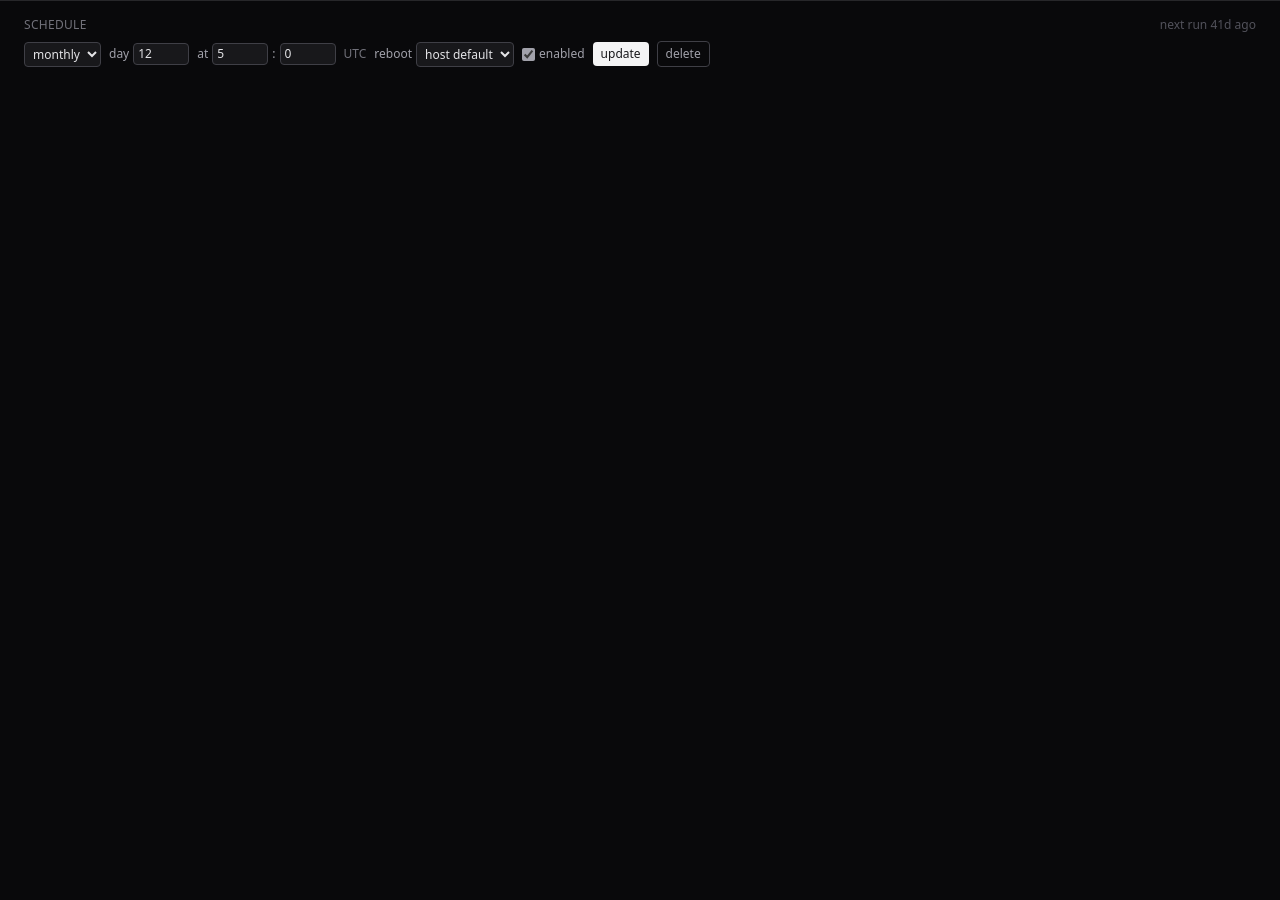
Test case: Schedule › populates the form from an existing schedule and deletes it after confirmation
Expected: the button "update" is shown, [593,42,649,66]
Expected: the text "next run 41d ago" is shown, [1160,17,1256,33]
Click the button "delete".
click(683, 54)  # box [657,41,710,67]
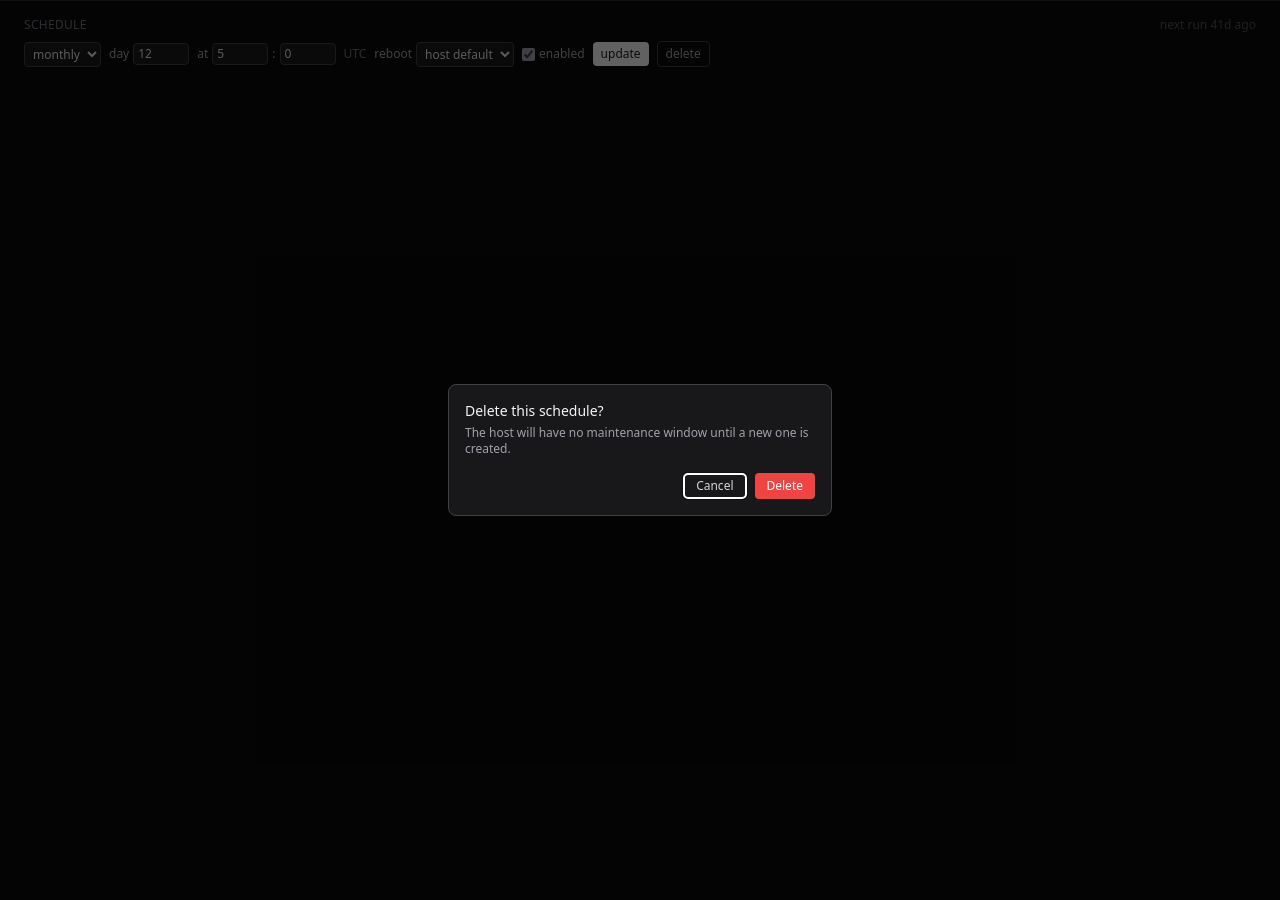
Click the button "Delete".
click(785, 486)  # box [754,473,815,499]
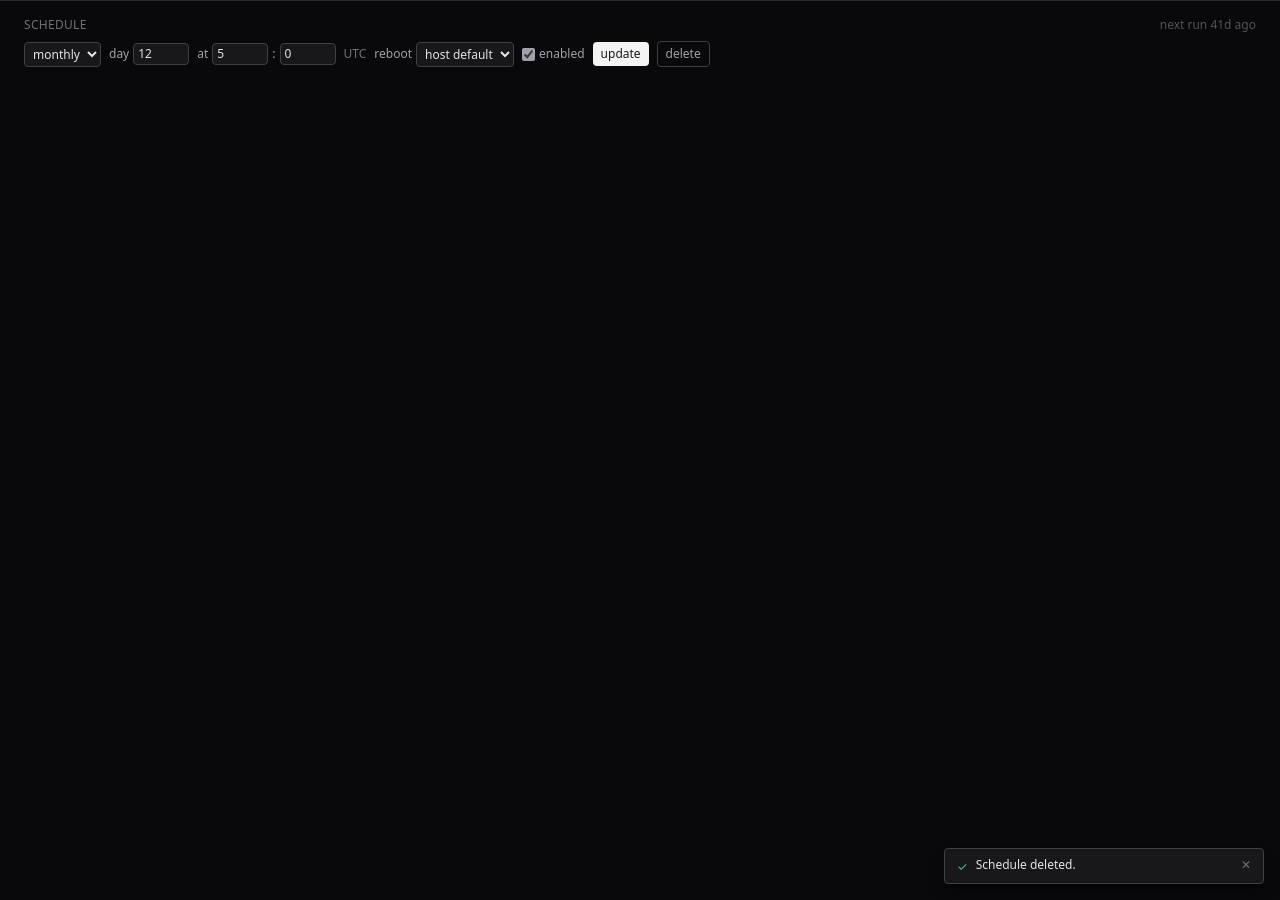
Result: the text "Schedule deleted." is shown at [976,856,1076,873]
